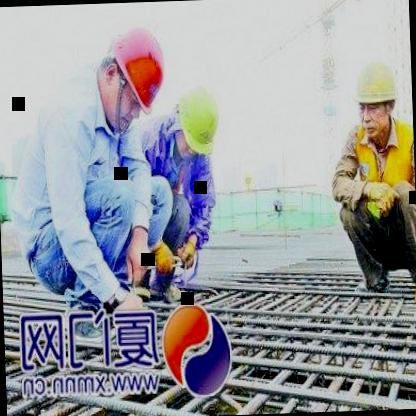helmet: (90, 13, 174, 139), (346, 49, 405, 145), (172, 74, 223, 161)
